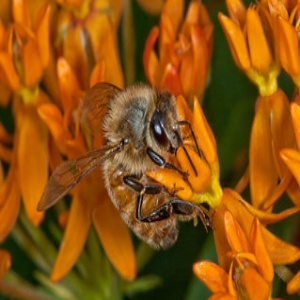bee: (34, 83, 213, 263)
